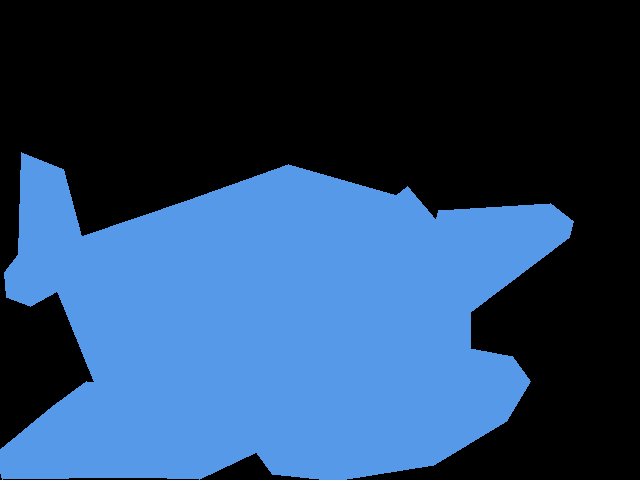Airplane: (0, 152, 573, 480)
